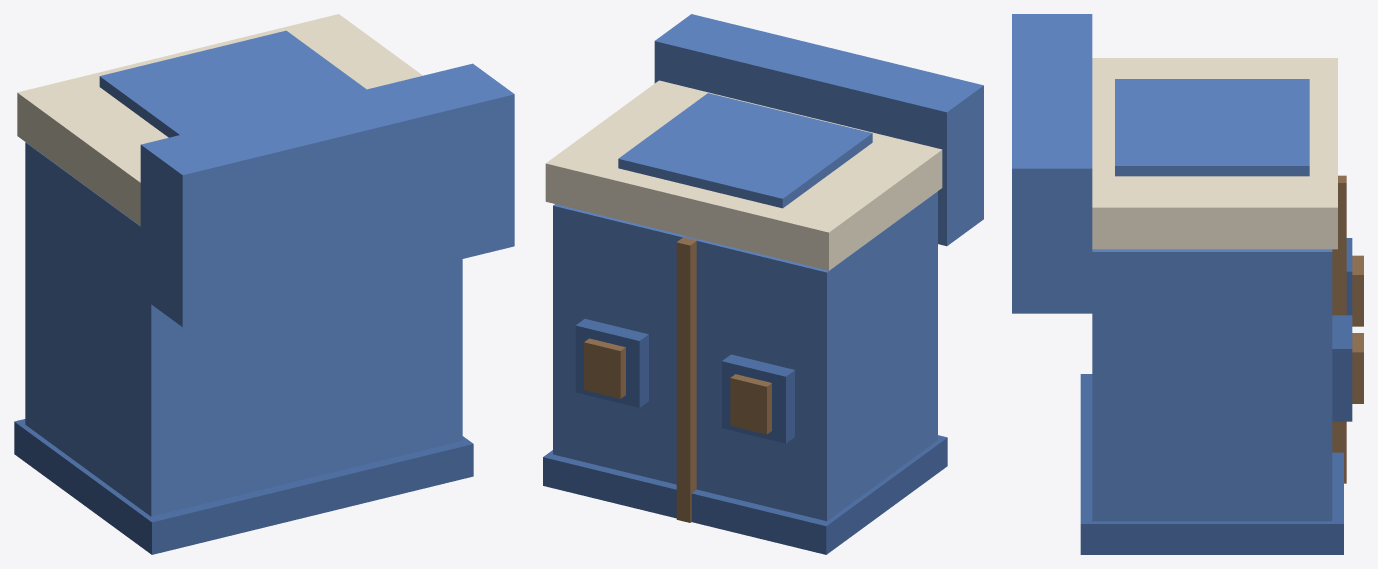
File: polar_tronco.glb
3 renders of one model, left to right at view 1: azimuth 30°, elevation 25°; view 2: azimuth 150°, elevation 25°; view 3: azimuth 270°, elevation 25°, orthographic. The views are drawn at different scales.
Visible parts, largest first — view 1: polar_tronco; view 2: polar_tronco; view 3: polar_tronco.
Part boxes in pixels (left/top/right/bottom): polar_tronco: left=14, top=14, right=514, bottom=554; polar_tronco: left=543, top=14, right=983, bottom=554; polar_tronco: left=1012, top=14, right=1363, bottom=554.
Bounding box in the file's own units: 0.64 × 0.75 × 0.615.
